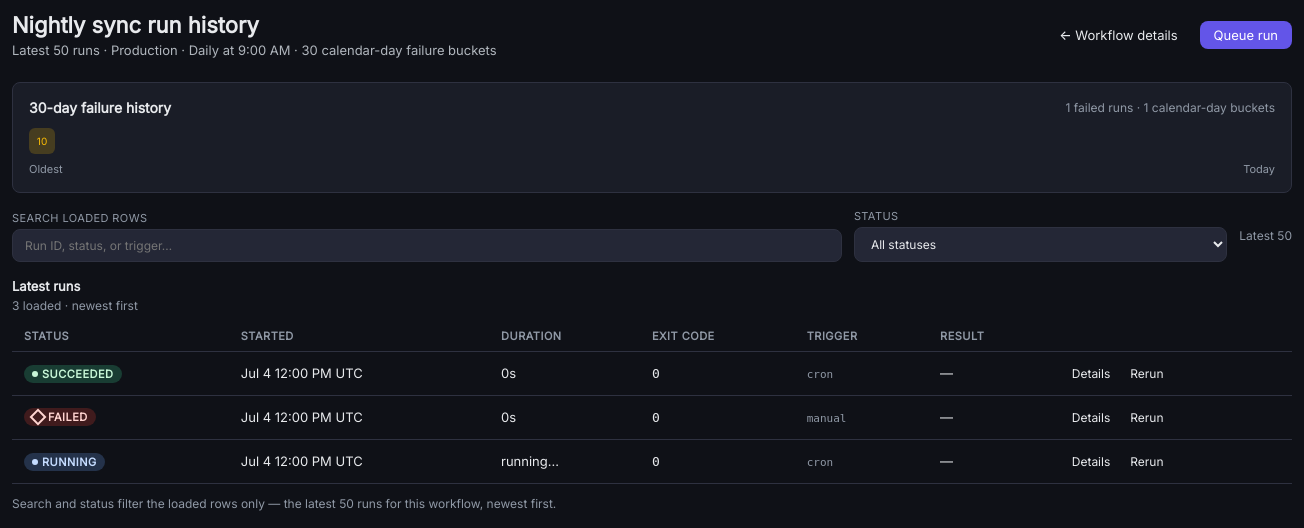
RunHistory (workflow-scoped) › renders bounded failure history and filters only the loaded rows
Expected: the heading "30-day failure history" is shown, [29,98,171,116]
Expected: the list item named "2026-07-10: 1 of 3 runs failed" is shown, [29,128,55,154]
Select "Failed" in the dropdown labelled "Status" at (1041, 244), box [854,227,1227,262]
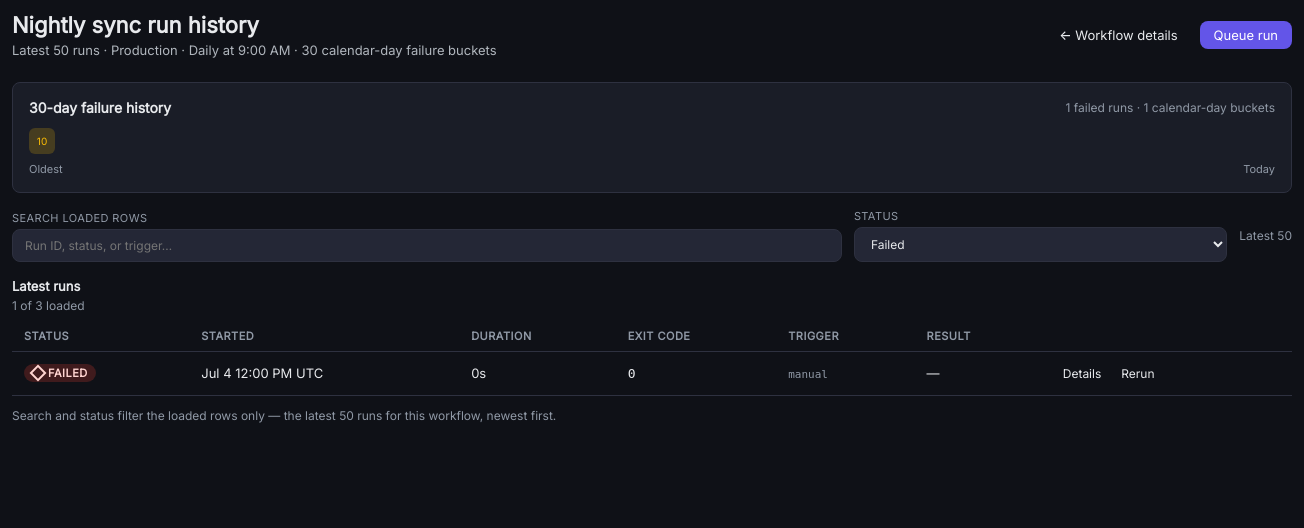
Expected: the text "failed" is shown, [24,364,96,382]
Expected: the text "succeeded" is gone
Expected: the text "1 of 3 loaded" is shown, [12,298,85,313]
Select "All statuses" in the dropdown labelled "Status" at (1041, 244), box [854,227,1227,262]
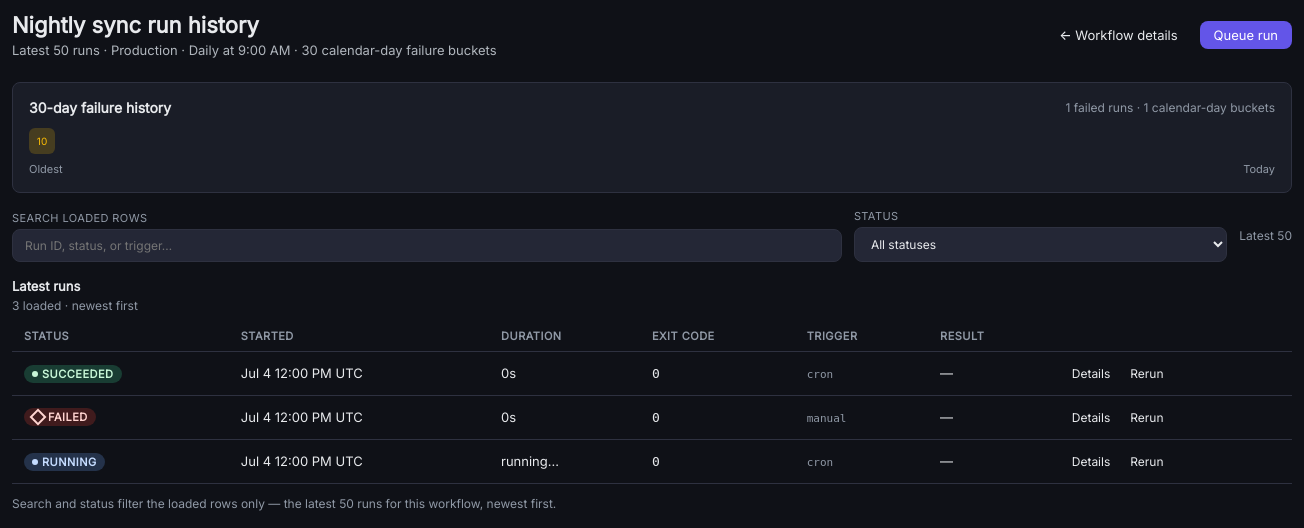
Type "live" into the search field labelled "Search loaded rows" at (427, 245), box [12,229,842,262]
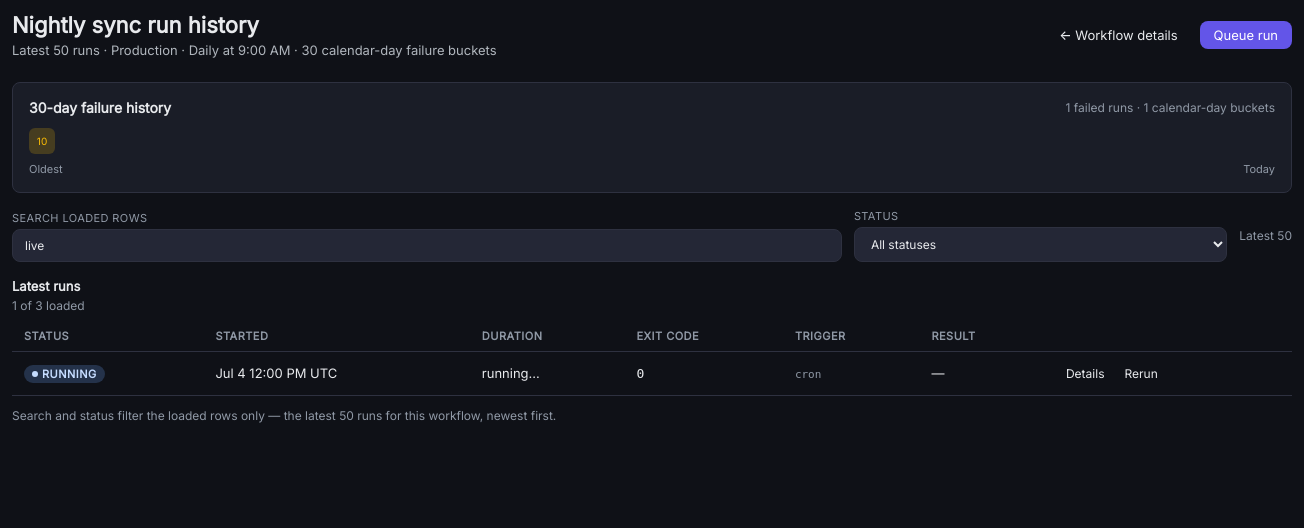
Expected: the text "running" is shown, [24,365,105,383]
Expected: the text "1 of 3 loaded" is shown, [12,298,85,313]
